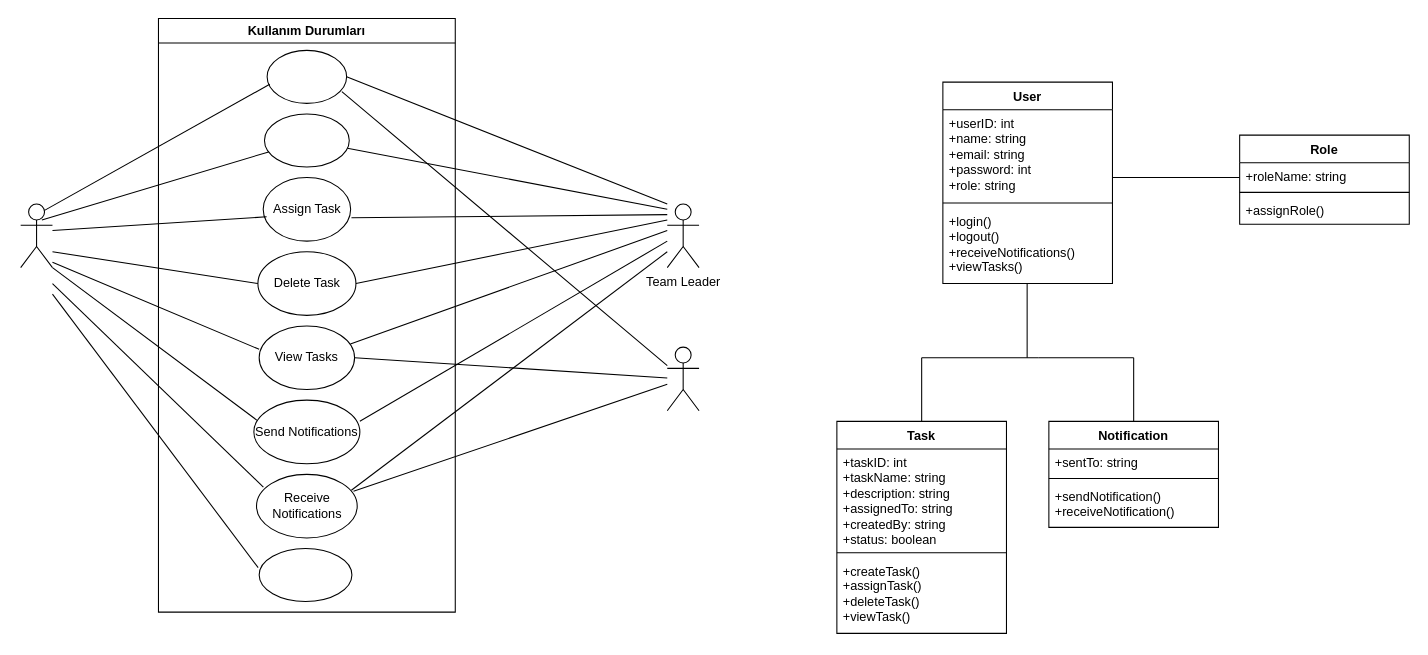
Some shapes in this 1428 by 655 pixel diagram are drawn without their labels. Here are the shapes that lost their labels. From the top down, the centre of each, then its label:
At point 306,76: "Login/Logout".
At point 306,140: "Create Task".
At point 36,235: "Admin".
At point 682,378: "Team Member".
At point 305,574: "Role Assignment".
